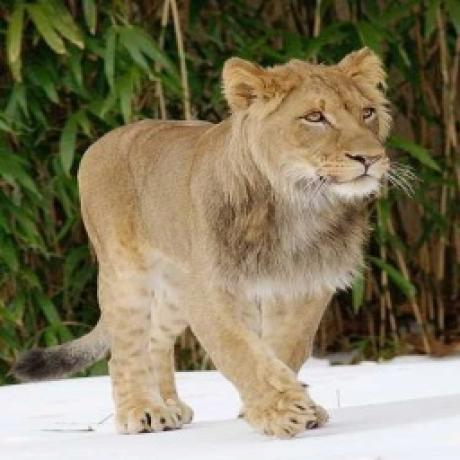Lion: (7, 43, 400, 441)
